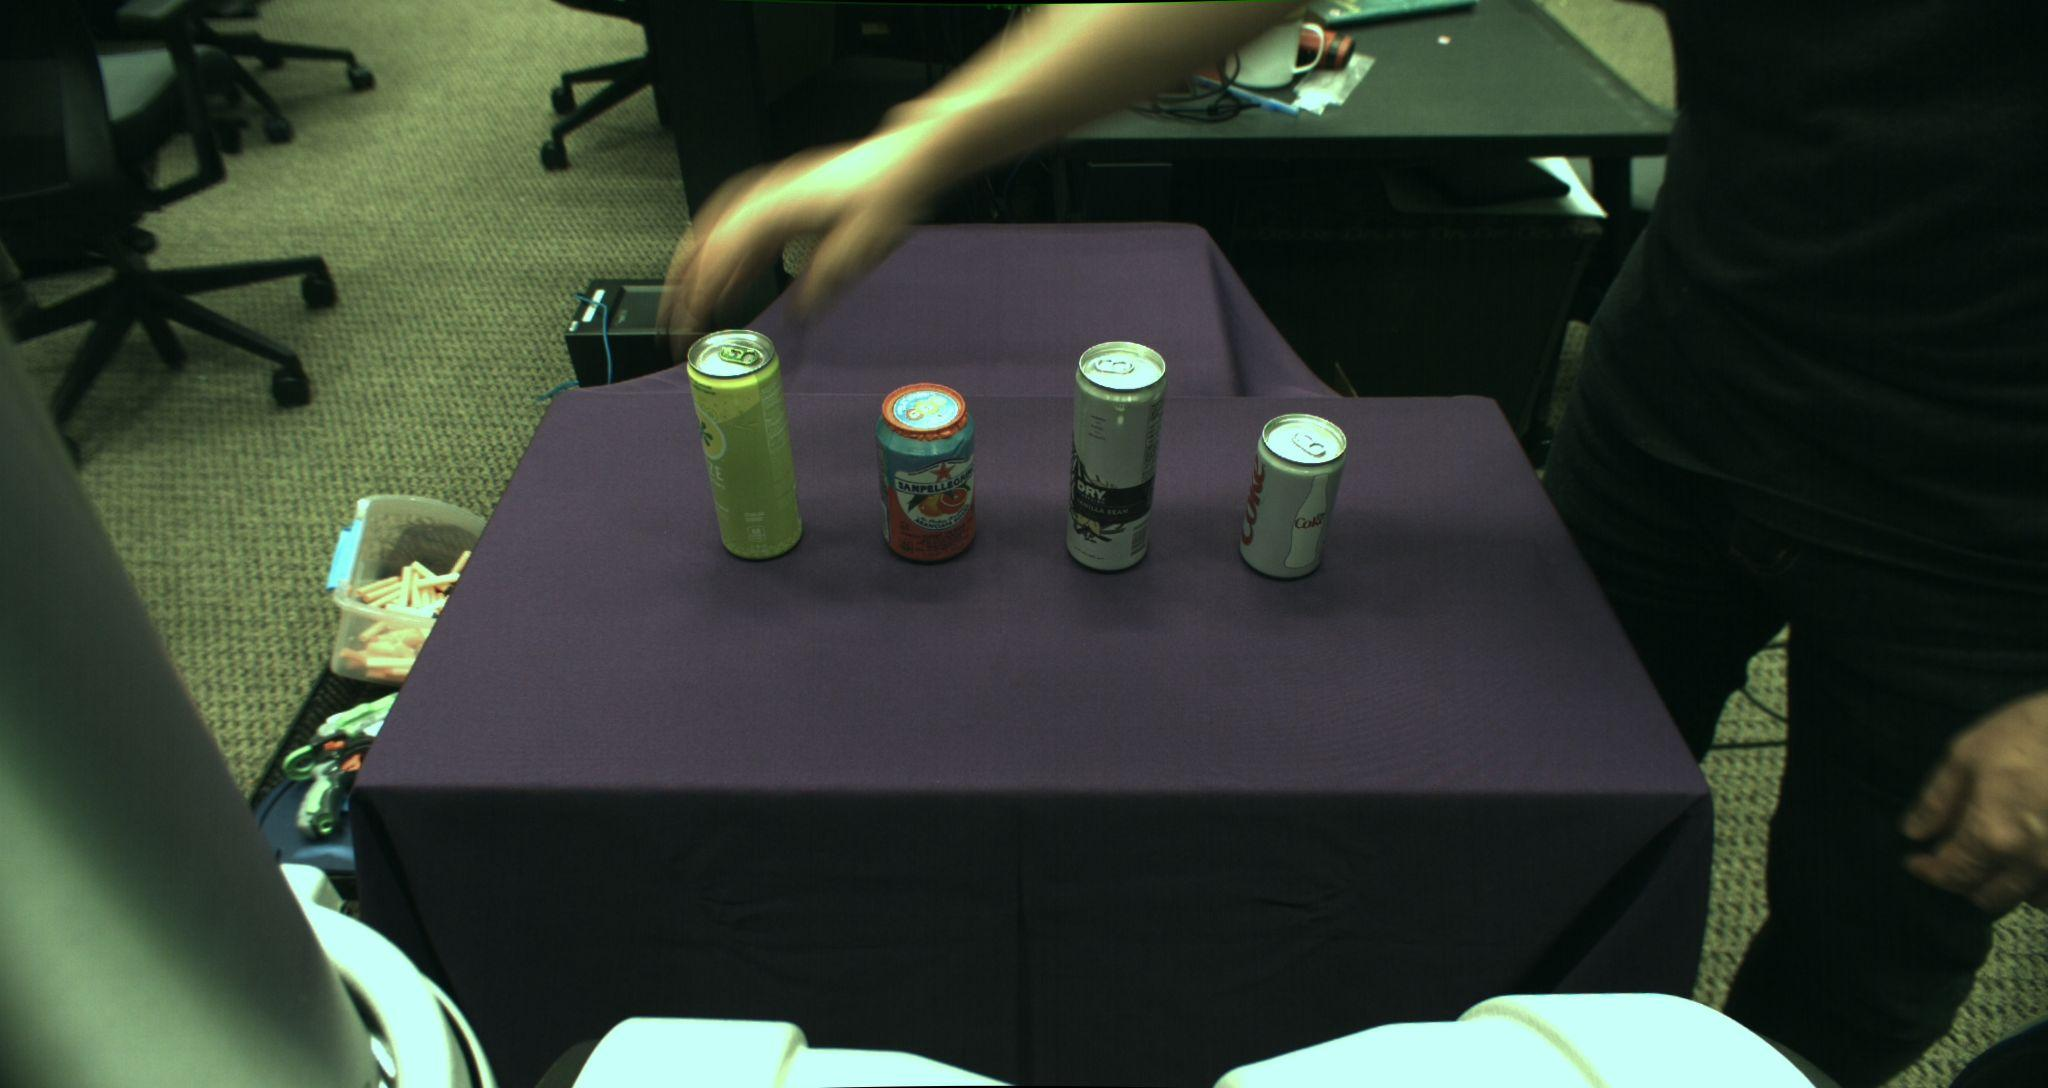can_diet_coke_small: (1239, 415, 1349, 580)
can_dry_sparkling_vanilla_bean: (1067, 340, 1168, 570)
can_izze_fusions_lemon_lime: (685, 329, 802, 560)
can_sanpellegrino_blood_orange: (875, 381, 977, 562)
